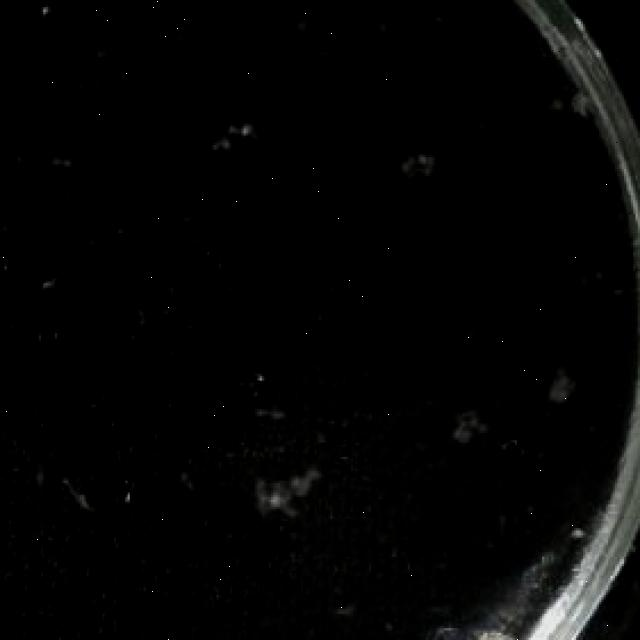Microplastic: (246, 452, 321, 531), (203, 114, 264, 174), (396, 131, 451, 190), (446, 405, 501, 459), (538, 78, 586, 122), (549, 364, 583, 395)
